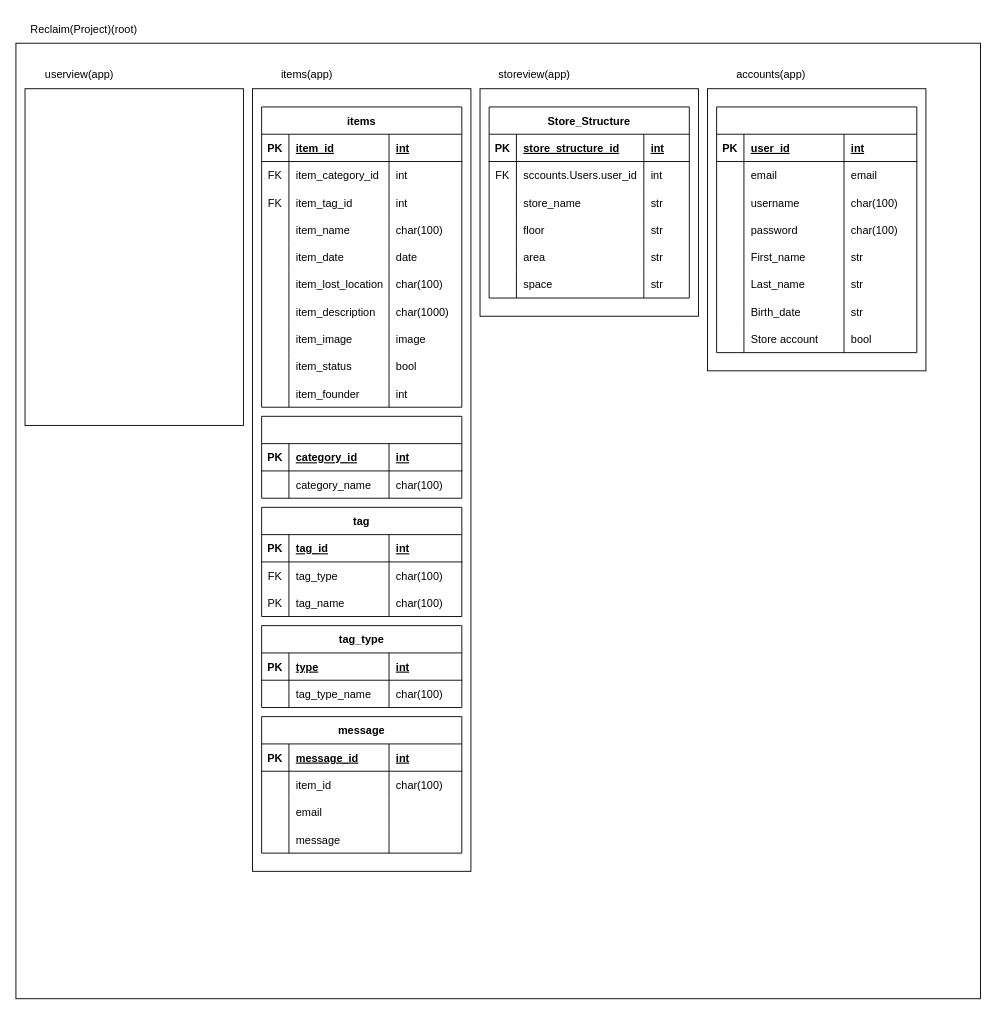
The diagram is 996 pixels wide and 1015 high, and some of its shapes have lost their labels. The shapes that lost their labels are listed below. From the top down, each one's box as (x1, y1, x2, y2) in pixels, then its label:
(716, 106, 917, 353): Users
(261, 415, 462, 498): item_category
